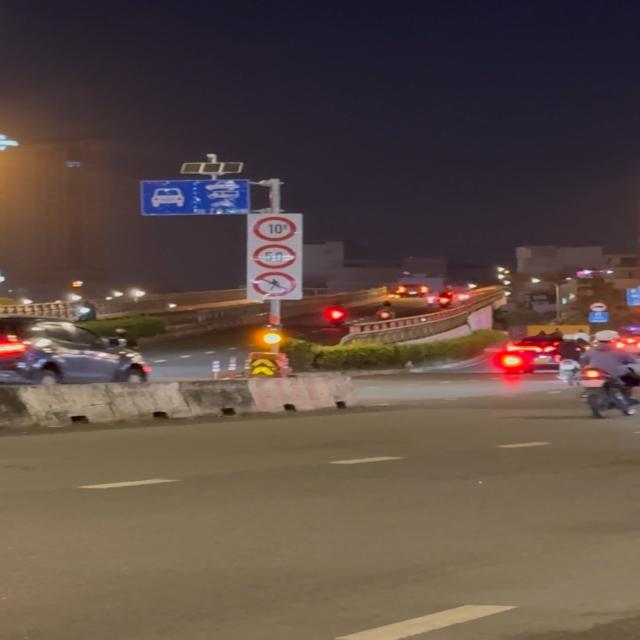Bien bao cam nguoi di bo: (250, 270, 298, 296)
Bien bao toc do toi da cho phep: (250, 244, 302, 270)
